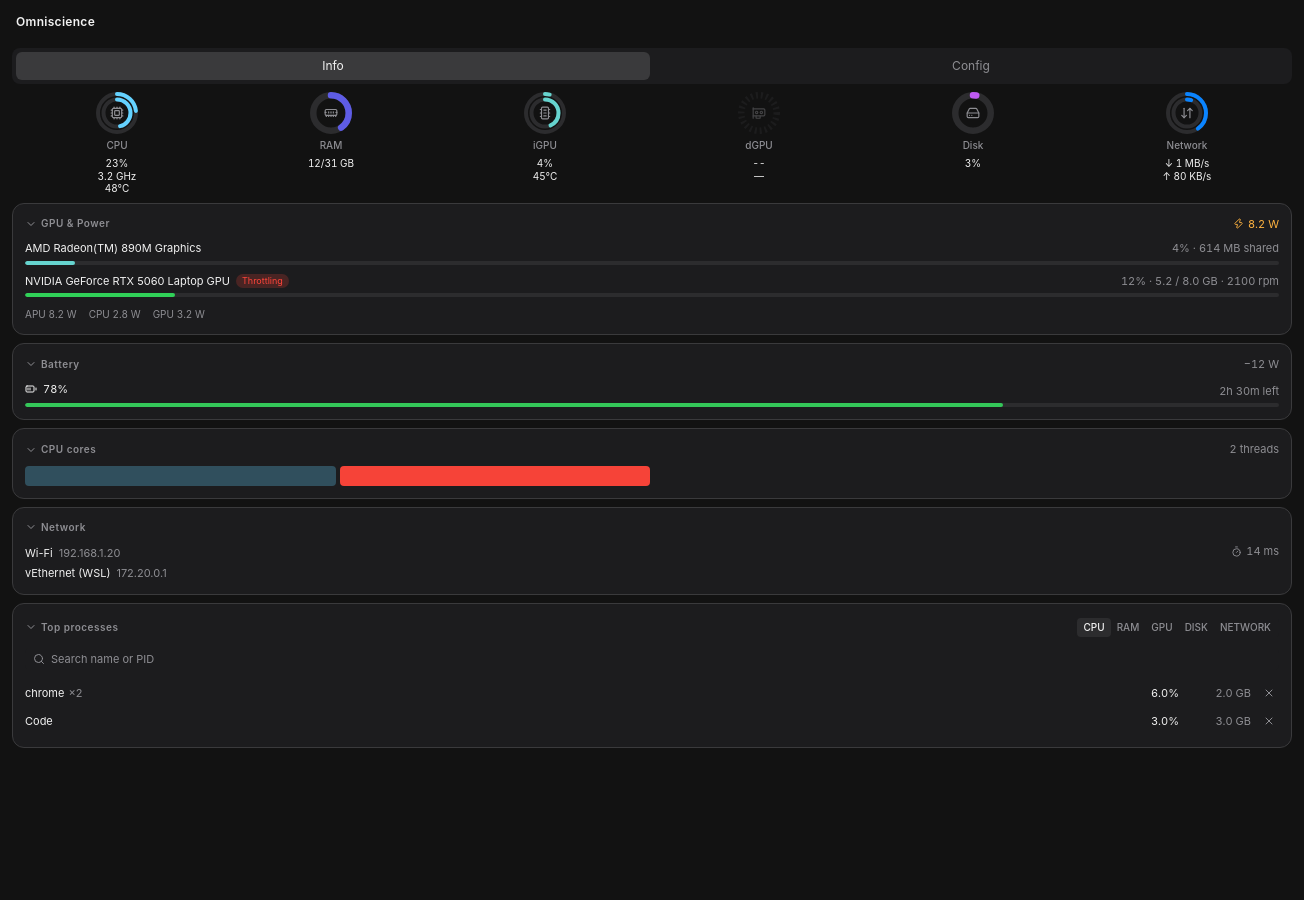
Test: Dashboard › restores the row and shows a toast when the kill is refused
Step 1. Click the button named "End Code.exe" → (1269, 721), box [1259,711,1279,731]
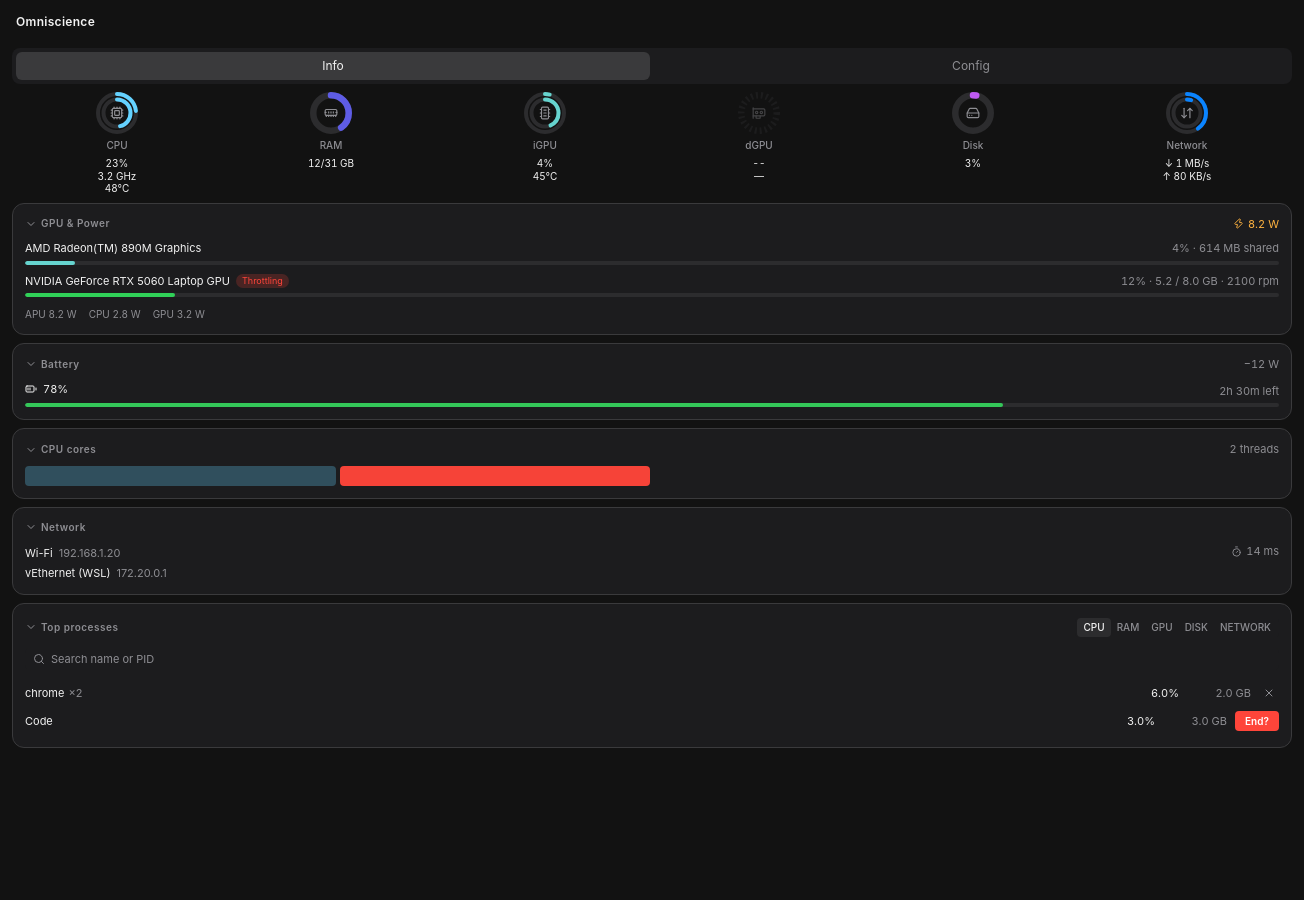
Step 2. Click the button with aria-label "Confirm end Code.exe" → (1257, 721), box [1235,711,1279,731]
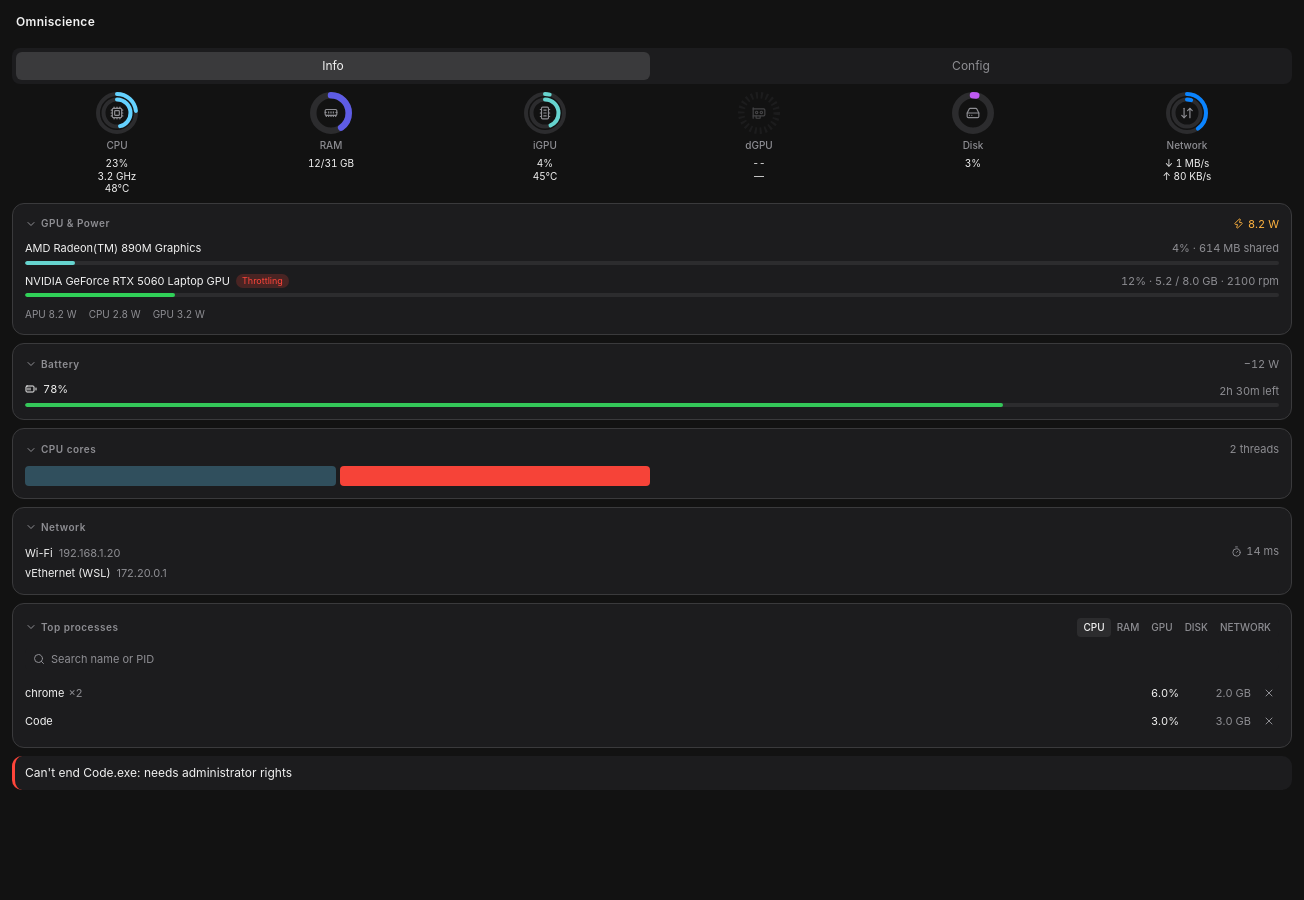
Expected: the text "Code" is shown, [25,714,53,728]
Expected: the text "Can't end Code.exe: needs administrator rights" is shown, [12,756,1292,790]
